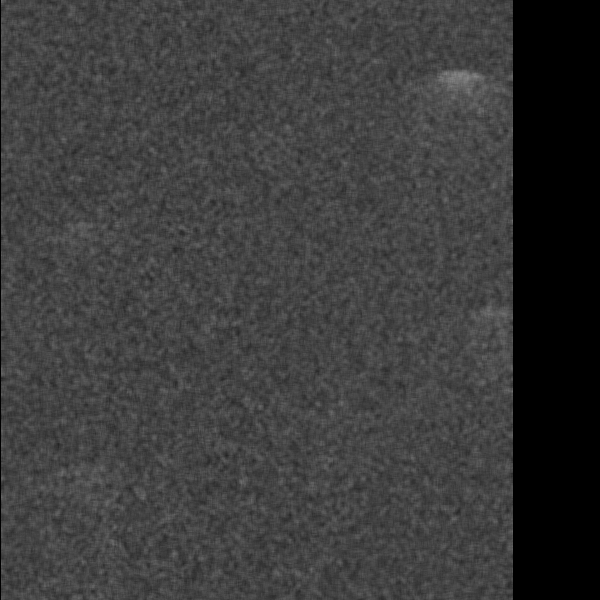spark: (419, 68, 500, 115), (62, 217, 113, 253), (471, 298, 504, 330)
